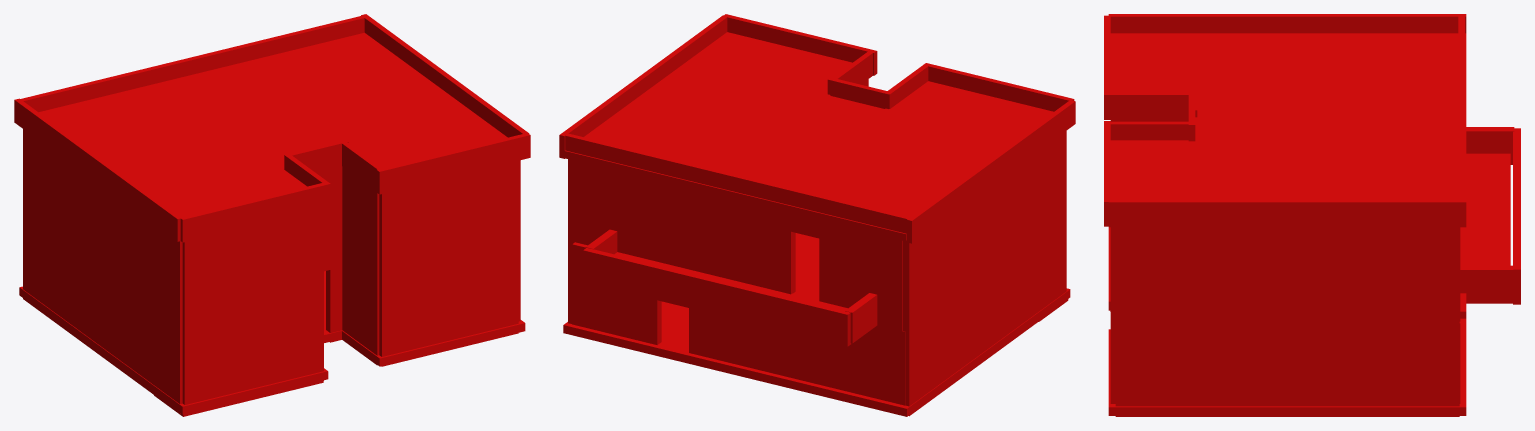
The model's file is SM_Bld_House_02_C_Collision.fbx.
3 renders of one model, left to right at view 1: azimuth 30°, elevation 25°; view 2: azimuth 150°, elevation 25°; view 3: azimuth 270°, elevation 25°, orthographic. The views are drawn at different scales.
Visible parts, largest first — view 1: SM_Bld_House_02_C_Collision; view 2: SM_Bld_House_02_C_Collision; view 3: SM_Bld_House_02_C_Collision.
Boxes of the visible parts, x1,y1,x2,y2 form: SM_Bld_House_02_C_Collision: [14, 14, 530, 416]; SM_Bld_House_02_C_Collision: [559, 14, 1075, 416]; SM_Bld_House_02_C_Collision: [1104, 14, 1520, 416].
Bounding box in the file's own units: 1336 × 726 × 1250.
